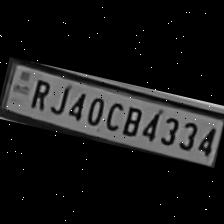0: (82, 92, 108, 126)
3: (156, 109, 182, 145), (174, 116, 200, 152)
4: (64, 85, 90, 121), (194, 120, 220, 156), (138, 105, 163, 142)
B: (118, 99, 144, 138)
C: (100, 95, 125, 131)
J: (46, 79, 72, 116)
R: (25, 72, 53, 110)
